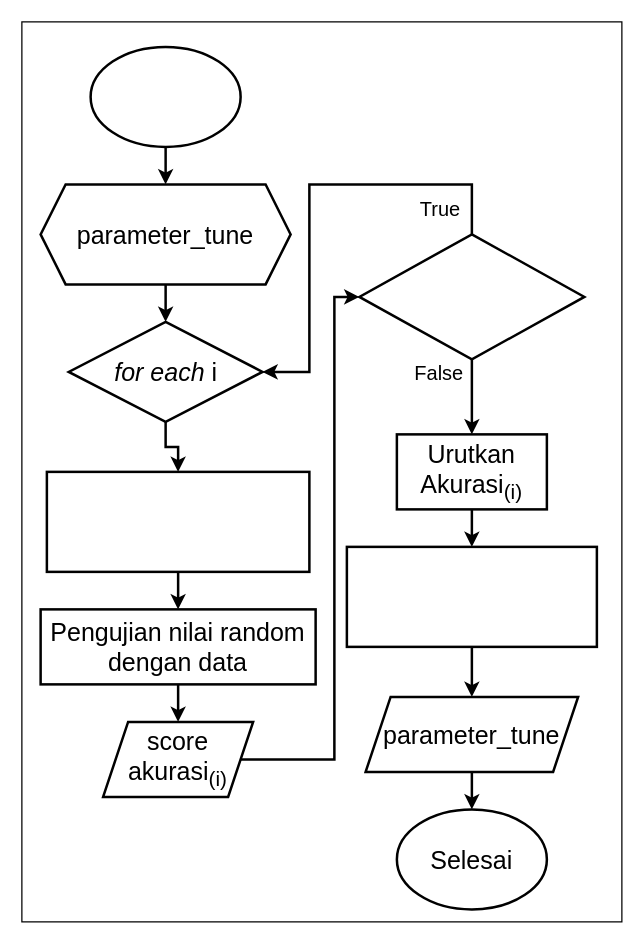
The diagram is 644 pixels wide and 944 high, and some of its shapes have lost their labels. Each missing label, with the centre of its shape:
"Bangkitkan nilai random dari hyper parameter" goes at point (177, 521).
"if i < n_iter" goes at point (471, 296).
"Mulai" goes at point (165, 96).
"Pilih parameter yang menghasilkan Akurasi terbaik" goes at point (471, 596).
